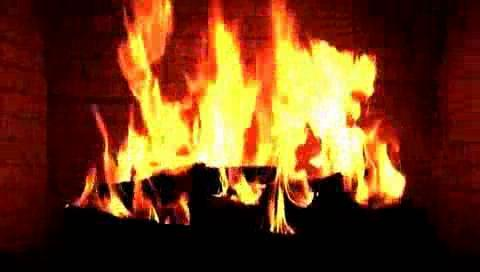fire: (93, 19, 395, 219)
